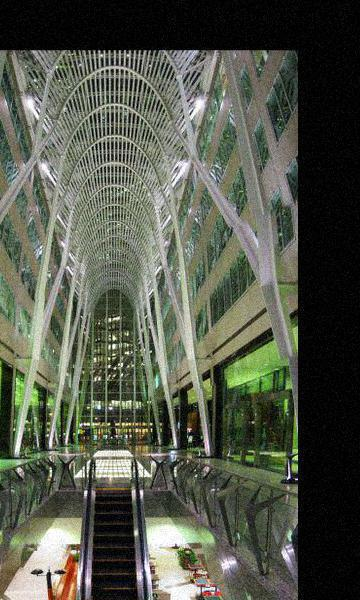Escaleras: (74, 462, 155, 600)
